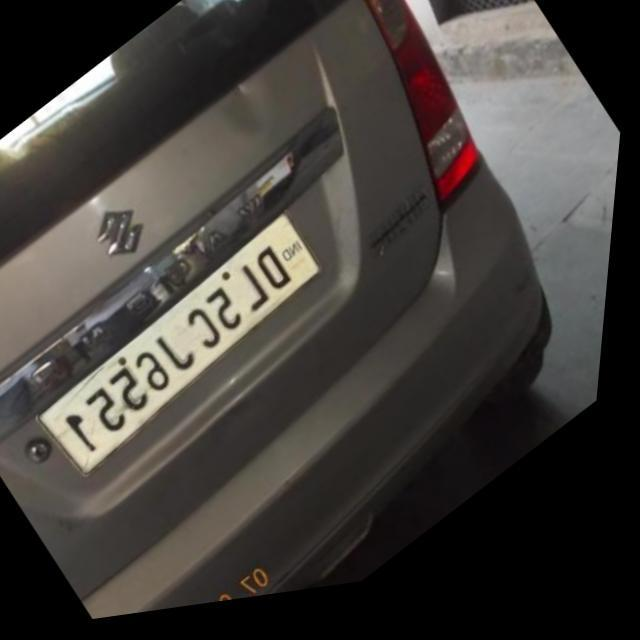dent: (220, 85, 290, 162)
